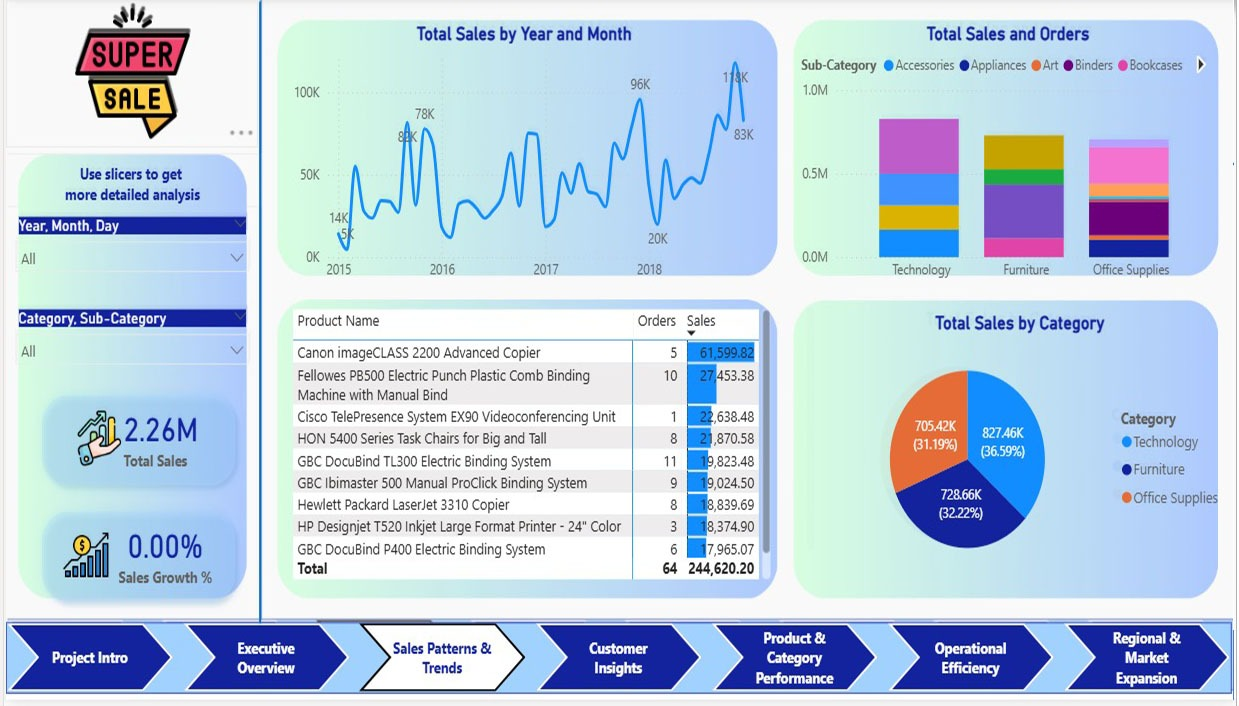

The page's visual inventory and layout, read from the dashboard file:
{"tool":"powerbi","page":{"name":"Sales Patterns & Trends","canvas":[1280,720],"ordinal":2},"visuals":[{"type":"pageNavigator","box":[0,650,1273.6,64.5],"z":0},{"type":"lineChart","fields":{"Y":["Sales Measure.Total Sales"],"Category":["Date.Date.Variation.Date Hierarchy.Year","Date.Date.Variation.Date Hierarchy.Month"]},"box":[293,104.4,490.9,243.1],"z":1000},{"type":"columnChart","title":"Total Sales and Orders","fields":{"Y":["Sales Measure.Total Sales"],"Category":["Superstore Sales Dataset.Category"],"Series":["Superstore Sales Dataset.Sub-Category"]},"box":[821.3,104.4,439.5,243.1],"z":2000},{"type":"cardVisual","fields":{"Data":["Sales Measure.Total Sales","Sales Measure.Sales Growth %"]},"box":[0,425.9,275.6,224.1],"z":3000},{"type":"image","box":[0,84.4,262.4,133.2],"z":4000},{"type":"shape","box":[234.7,85.5,57.4,565],"z":5000},{"type":"slicer","fields":{"Values":["Date.Date.Variation.Date Hierarchy.Year","Date.Date.Variation.Date Hierarchy.Month","Date.Date.Variation.Date Hierarchy.Day"]},"box":[0,275.6,262.4,72.5],"z":6000},{"type":"slicer","fields":{"Values":["Superstore Sales Dataset.Category","Superstore Sales Dataset.Sub-Category"]},"box":[0,360,262.4,72.5],"z":7000},{"type":"textbox","box":[0,228.3,262.7,47.2],"z":8000},{"type":"pivotTable","title":"Top 10 Products By Sales","fields":{"Rows":["Superstore Sales Dataset.Product Name"],"Values":["Count(Superstore Sales Dataset.Order ID)","Sum(Superstore Sales Dataset.Sales)"]},"box":[293,360,506.5,255.6],"z":9000},{"type":"pieChart","fields":{"Y":["Sales Measure.Total Sales"],"Category":["Superstore Sales Dataset.Category"]},"box":[833.8,367.8,439.5,247.8],"z":10000},{"type":"shape","box":[0,0,1279.8,84.5],"z":11000}]}

Visuals, with their boxes in screenshot pixels (x1, y1, x2, y2), scaled from the page's 1280x720 canvas onto the 1239x706 screenshot:
pageNavigator: x1=0 y1=637 x2=1233 y2=701
lineChart - Sales Measure.Total Sales x Date.Date.Variation.Date Hierarchy.Year: x1=284 y1=102 x2=759 y2=341
"Total Sales and Orders" columnChart: x1=795 y1=102 x2=1220 y2=341
cardVisual - Sales Measure.Total Sales x Sales Measure.Sales Growth %: x1=0 y1=418 x2=267 y2=637
image: x1=0 y1=83 x2=254 y2=213
shape: x1=227 y1=84 x2=283 y2=638
slicer - Date.Date.Variation.Date Hierarchy.Year x Date.Date.Variation.Date Hierarchy.Month: x1=0 y1=270 x2=254 y2=341
slicer - Superstore Sales Dataset.Category x Superstore Sales Dataset.Sub-Category: x1=0 y1=353 x2=254 y2=424
textbox: x1=0 y1=224 x2=254 y2=270
"Top 10 Products By Sales" pivotTable: x1=284 y1=353 x2=774 y2=604
pieChart - Sales Measure.Total Sales x Superstore Sales Dataset.Category: x1=807 y1=361 x2=1233 y2=604
shape: x1=0 y1=0 x2=1238 y2=83
